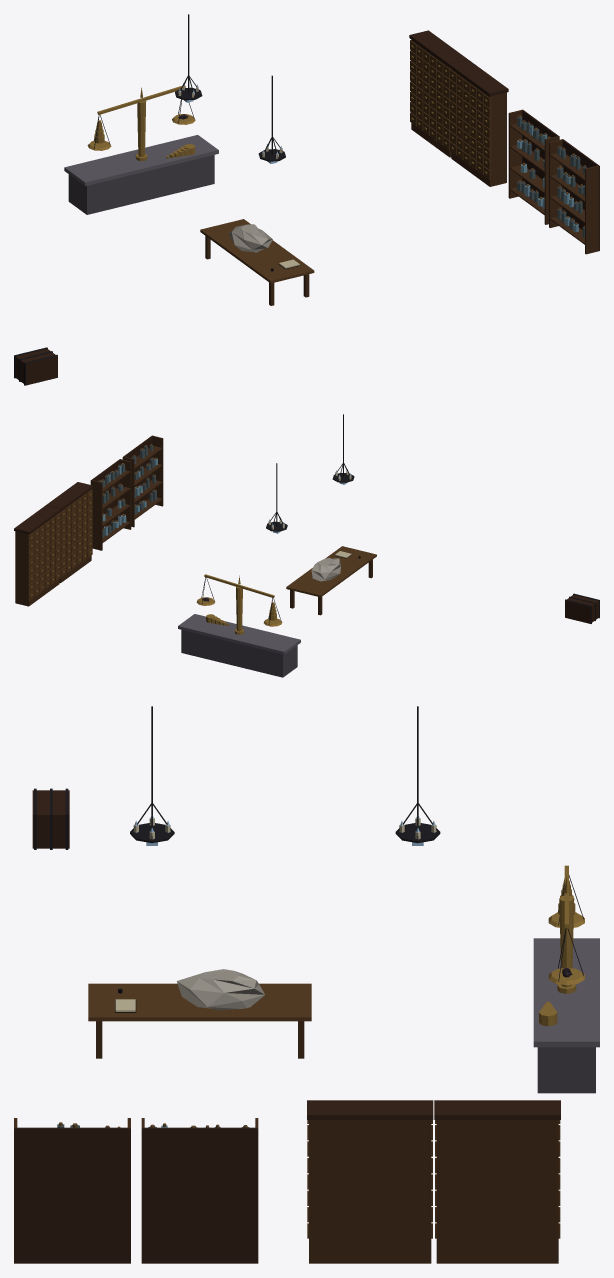
File: cold-assay.glb
3 renders of one model, top to bottom at view 1: azimuth 30°, elevation 25°; view 2: azimuth 150°, elevation 25°; view 3: azimuth 270°, elevation 25°, orthographic. The views are drawn at different scales.
Visible parts, largest first — view 1: cold-assay; view 2: cold-assay; view 3: cold-assay.
Part boxes in pixels (bbox=[...]): cold-assay: bbox=[14, 14, 599, 385]; cold-assay: bbox=[14, 414, 599, 677]; cold-assay: bbox=[14, 706, 599, 1263].
Size of the model in its own units: 19.63 by 7.02 by 11.03.
